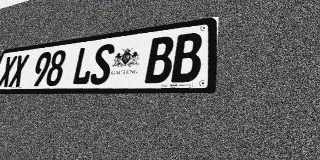8: (44, 49, 68, 86)
9: (30, 51, 53, 87)
B: (171, 32, 203, 83), (144, 35, 175, 83)
L: (71, 45, 96, 85)
S: (89, 43, 116, 85)
X: (8, 54, 30, 87), (0, 56, 17, 87)
